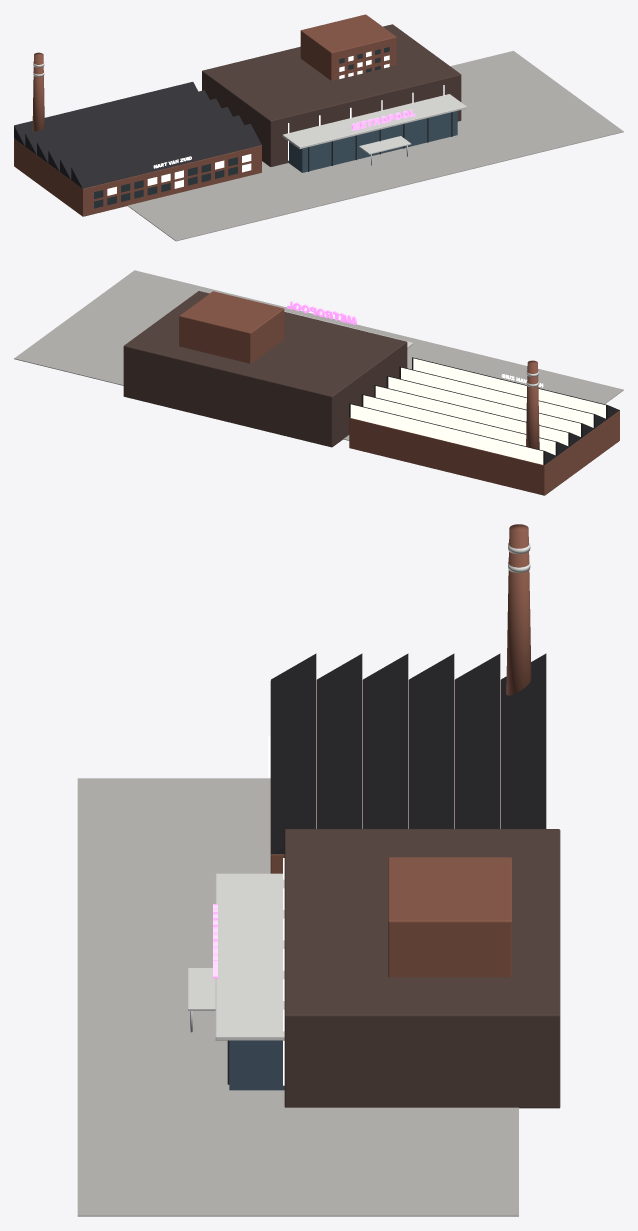
The model's file is lm_metropool.glb.
The picture shows the model from 3 angles, top to bottom: view 1: azimuth 30°, elevation 25°; view 2: azimuth 150°, elevation 25°; view 3: azimuth 270°, elevation 25°; orthographic projection. The views are drawn at different scales.
Visible parts, largest first — view 1: plaza, hall, stork_walls, saw0, fly_tower, foyer, foyer_roof, saw1, saw2, saw3, saw4, saw5 (+5 smaller); view 2: hall, plaza, stork_walls, fly_tower, saw_glass5, saw_glass0, saw_glass3, saw_glass1, saw_glass2, saw_glass4, chimney, sign (+6 smaller); view 3: plaza, hall, fly_tower, foyer_roof, saw0, saw4, saw1, saw2, saw3, saw5, chimney, foyer (+2 smaller).
Boxes of the visible parts, x1,y1,x2,y2 form: plaza: (128, 51, 623, 241); hall: (202, 24, 461, 166); stork_walls: (14, 139, 261, 216); saw0: (71, 124, 261, 188); fly_tower: (300, 14, 396, 80); foyer: (288, 111, 457, 172); foyer_roof: (282, 94, 466, 149); saw1: (60, 115, 243, 179); saw2: (48, 107, 232, 171); saw3: (37, 98, 221, 163); saw4: (25, 90, 209, 154); saw5: (14, 82, 198, 146); hall: (123, 291, 407, 447); plaza: (14, 270, 623, 440); stork_walls: (349, 410, 619, 495); fly_tower: (179, 291, 284, 363); saw_glass5: (350, 404, 543, 464); saw_glass0: (413, 358, 605, 418); saw_glass3: (375, 386, 568, 445); saw_glass1: (401, 367, 593, 427); saw_glass2: (388, 376, 580, 436); saw_glass4: (363, 395, 555, 455); chimney: (526, 360, 539, 449); sign: (287, 301, 356, 325); plaza: (77, 778, 518, 1216); hall: (284, 829, 560, 1108); fly_tower: (388, 857, 511, 977); foyer_roof: (215, 873, 284, 1040); saw0: (271, 653, 316, 854); saw4: (455, 653, 500, 828); saw1: (317, 653, 362, 828); saw2: (363, 653, 408, 828); saw3: (409, 653, 454, 828); saw5: (501, 653, 546, 828); chimney: (506, 524, 531, 695); foyer: (229, 1040, 284, 1090).
Bounding box in the file's own units: 165 × 36 × 70.
